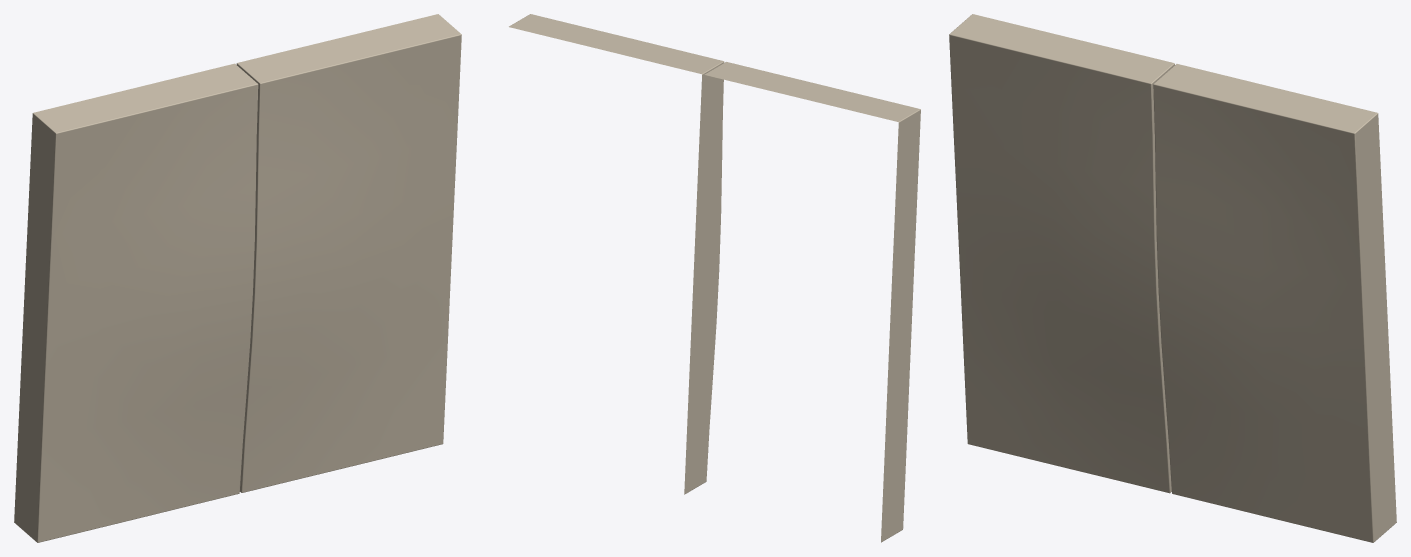
The model's file is cream.glb.
3 renders of one model, left to right at view 1: azimuth 30°, elevation 25°; view 2: azimuth 150°, elevation 25°; view 3: azimuth 330°, elevation 25°, orthographic. The views are drawn at different scales.
Visible parts, largest first — view 1: Object011; view 2: Object011; view 3: Object011.
Part boxes in pixels (x1,y1,x2,y2): Object011: (14, 14, 461, 542); Object011: (509, 14, 920, 542); Object011: (949, 14, 1396, 542).
Bounding box in the file's own units: 0.0528 × 0.053 × 0.00946.
